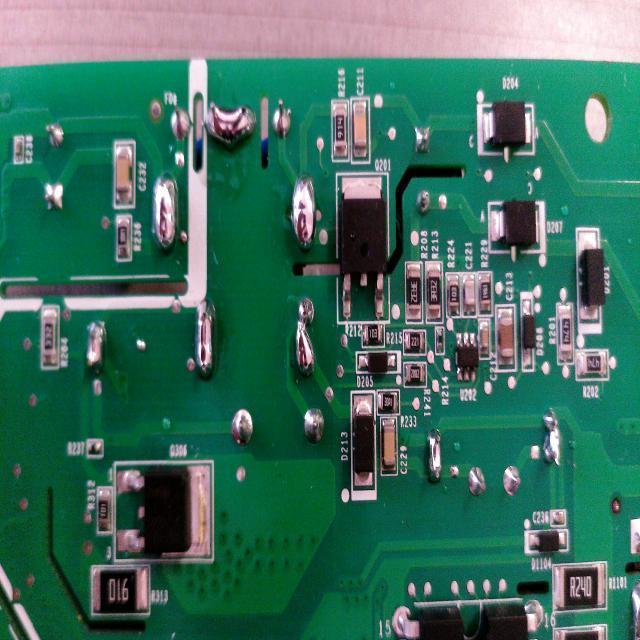Soldering shorted: (286, 172, 320, 258), (202, 104, 258, 152), (149, 169, 179, 256), (292, 294, 320, 382), (193, 295, 219, 385), (540, 405, 564, 473), (422, 429, 447, 490), (84, 318, 108, 376)
